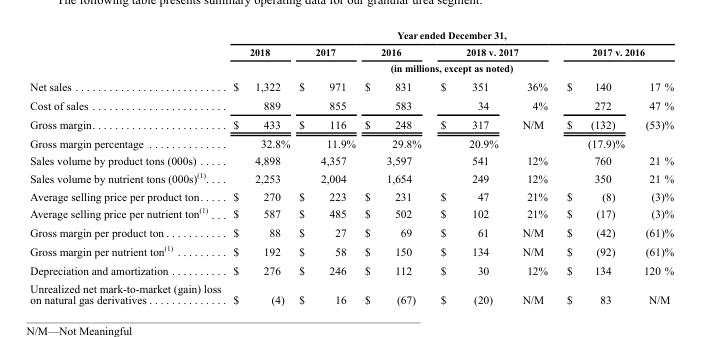table: (29, 29, 673, 305)
table column: (29, 29, 226, 305), (430, 29, 509, 305), (556, 29, 633, 305), (359, 29, 430, 305), (226, 29, 293, 305), (293, 29, 359, 305), (509, 29, 556, 305), (633, 29, 673, 305)
table column header: (29, 29, 673, 95)
table row: (29, 279, 673, 305), (29, 76, 673, 95), (29, 95, 673, 114), (29, 114, 673, 133), (29, 168, 673, 187), (29, 203, 673, 222), (29, 222, 673, 241), (29, 241, 673, 260), (29, 260, 673, 279), (29, 133, 673, 151), (29, 59, 673, 76), (29, 151, 673, 168), (29, 43, 673, 59), (29, 187, 673, 203), (29, 29, 673, 43)
table spanning cell: (29, 29, 226, 95), (226, 59, 673, 76), (226, 29, 673, 43), (430, 43, 556, 59), (556, 43, 673, 59)
